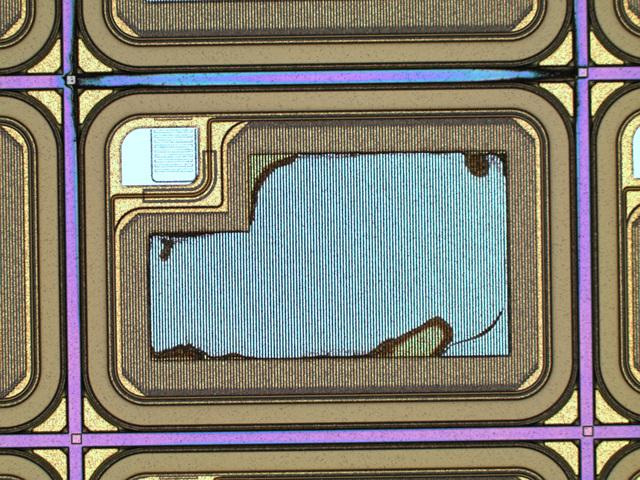SEZ BURNT: (145, 147, 513, 363)
